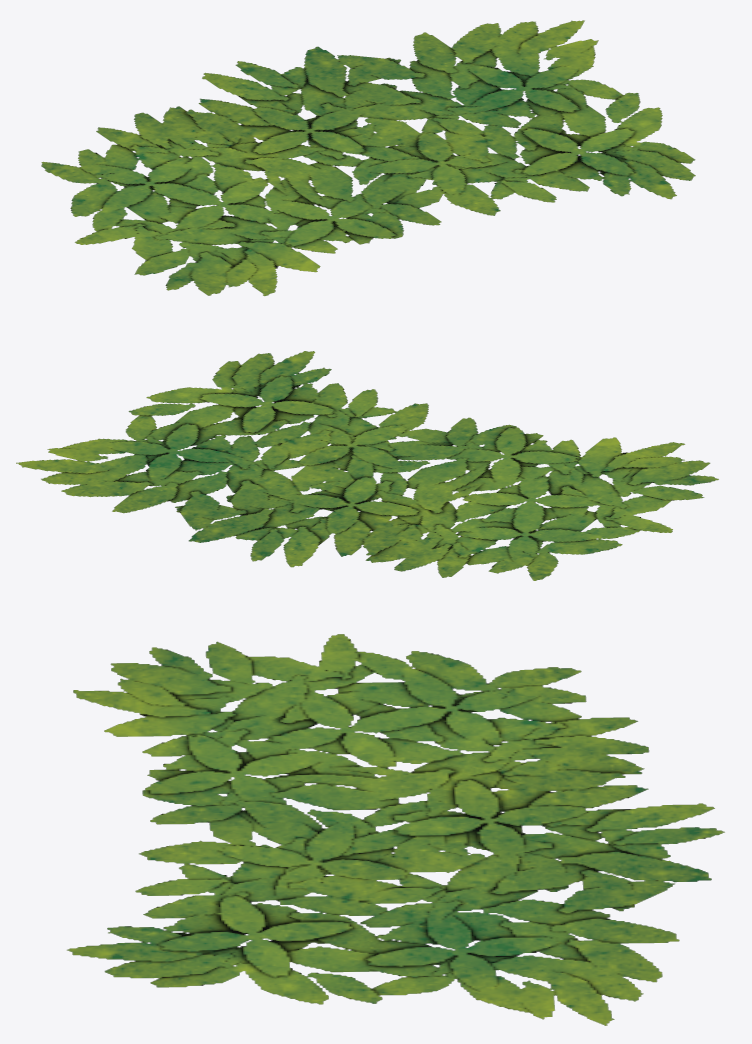
Rendered from Bush_04.fbx.
3 views of the same model, one above another, from view 1: azimuth 30°, elevation 25°; view 2: azimuth 150°, elevation 25°; view 3: azimuth 270°, elevation 25° (orthographic). The views are drawn at different scales.
Parts seen in each view (by area): view 1: Bush_04; view 2: Bush_04; view 3: Bush_04.
Part boxes in pixels (bbox=[...]): Bush_04: bbox=[41, 20, 695, 296]; Bush_04: bbox=[16, 351, 718, 580]; Bush_04: bbox=[66, 634, 724, 1025].
Size of the model in its own units: 3.47 by 0 by 2.57.
